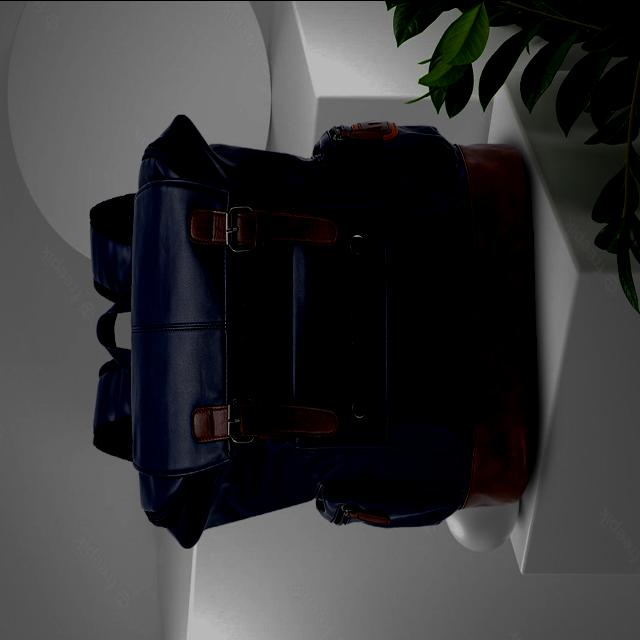backpack: (90, 115, 538, 550)
